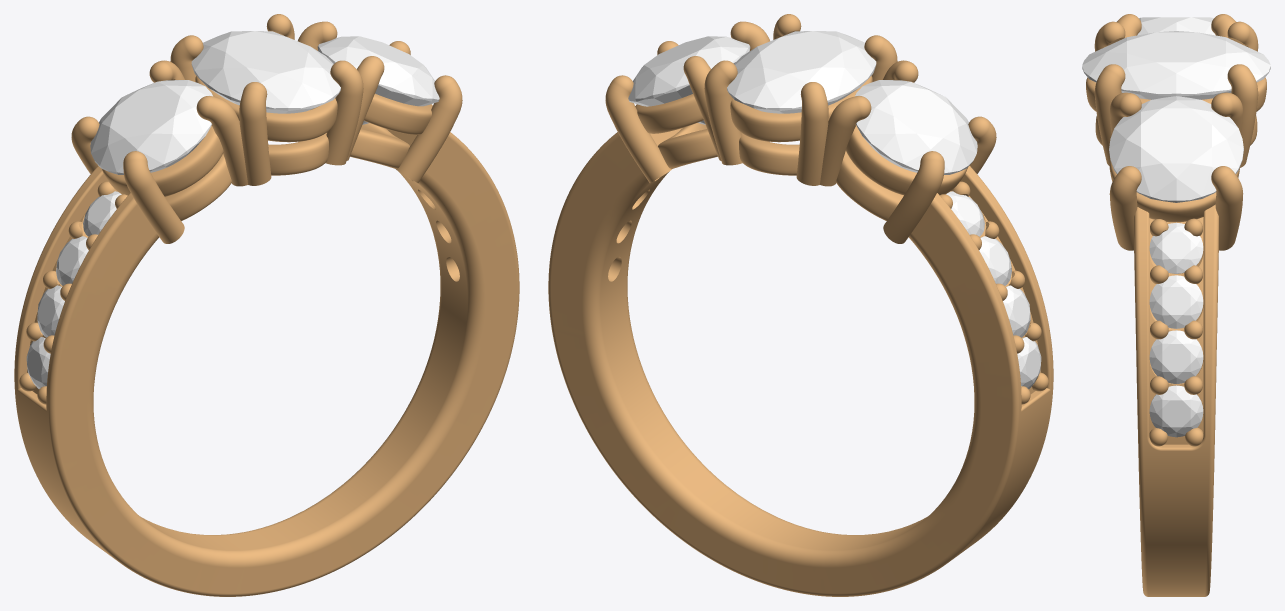
The model's file is Diamond Ring Example.glb.
The picture shows the model from 3 angles, left to right: view 1: azimuth 30°, elevation 25°; view 2: azimuth 150°, elevation 25°; view 3: azimuth 270°, elevation 25°; orthographic projection.
Parts seen in each view (by area): view 1: /demo file for rendering .3dm; view 2: /demo file for rendering .3dm; view 3: /demo file for rendering .3dm.
Boxes of the visible parts, bbox=[...] form: /demo file for rendering .3dm: bbox=[14, 14, 519, 596]; /demo file for rendering .3dm: bbox=[548, 14, 1053, 596]; /demo file for rendering .3dm: bbox=[1082, 14, 1270, 596].
Bounding box in the file's own units: 2.66 × 2.84 × 0.9209.
